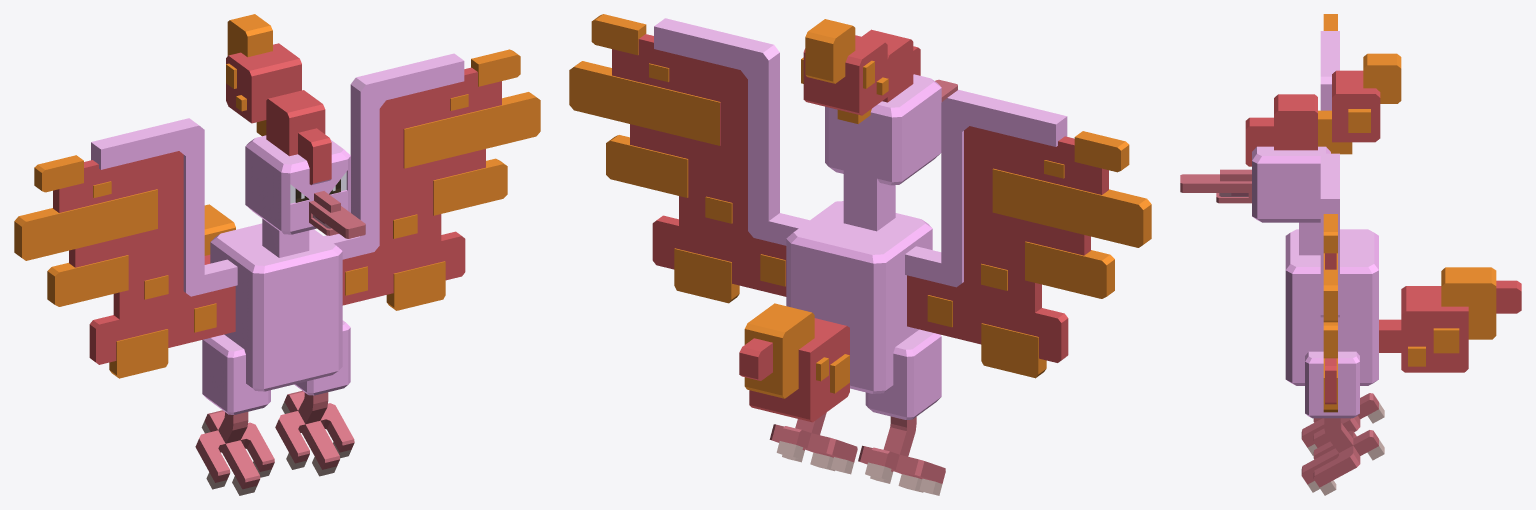
File: model_shiny.obj
The picture shows the model from 3 angles, left to right: view 1: azimuth 30°, elevation 25°; view 2: azimuth 150°, elevation 25°; view 3: azimuth 270°, elevation 25°; orthographic projection. The views are drawn at different scales.
Visible parts, largest first — view 1: 0146_moltres_shiny; view 2: 0146_moltres_shiny; view 3: 0146_moltres_shiny.
Part boxes in pixels (<box>): 0146_moltres_shiny: <box>14,14,540,495</box>; 0146_moltres_shiny: <box>569,14,1151,495</box>; 0146_moltres_shiny: <box>1180,14,1521,495</box>.
Size of the model in its own units: 5 by 4 by 3.01.
1 material, 1 textured.
